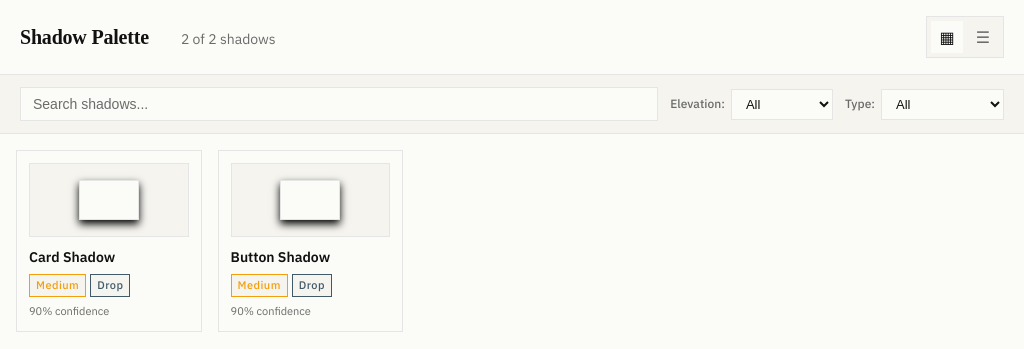
Scenario: ShadowPalette › Search › should filter shadows by name
In the field with placeholder "Search shadows...": point(339, 104) [20,87,658,121], type "Card"
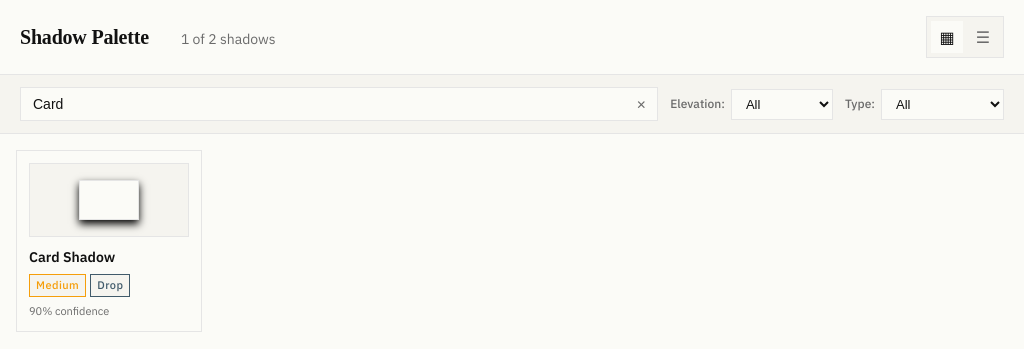
Check: the text "Card Shadow" is shown, box [29,248,115,266]
Check: the text "Button Shadow" is gone
